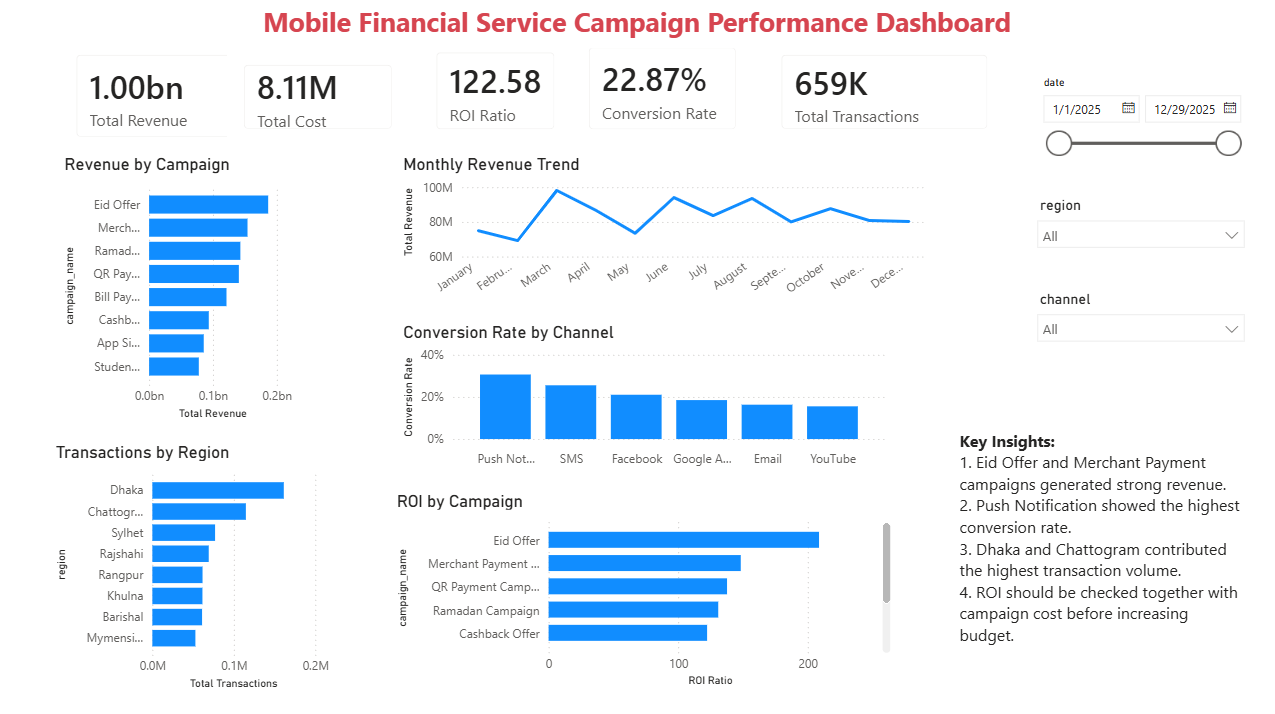

The page's visual inventory and layout, read from the dashboard file:
{"tool":"powerbi","page":{"name":"Page 1","canvas":[1280,720],"ordinal":0},"visuals":[{"type":"cardVisual","fields":{"Data":["mfs_campaign_data.Total Revenue"]},"box":[62.5,40,197.5,116.2],"z":0},{"type":"cardVisual","fields":{"Data":["mfs_campaign_data.Total Cost"]},"box":[230,50,182.5,98.8],"z":1},{"type":"cardVisual","fields":{"Data":["mfs_campaign_data.ROI"]},"box":[422.5,37.5,152.5,111.2],"z":2},{"type":"cardVisual","fields":{"Data":["mfs_campaign_data.Conversion Rate"]},"box":[575,32.5,181.2,116.2],"z":3},{"type":"cardVisual","fields":{"Data":["mfs_campaign_data.Total Transactions"]},"box":[767.5,40,240,108.8],"z":4},{"type":"clusteredBarChart","title":"Revenue by Campaign","fields":{"Category":["mfs_campaign_data.campaign_name"],"Y":["mfs_campaign_data.Total Revenue"]},"box":[62.5,156.2,237.5,270],"z":5},{"type":"lineChart","title":"Monthly Revenue Trend","fields":{"Category":["mfs_campaign_data.date.Variation.Date Hierarchy.Year","mfs_campaign_data.date.Variation.Date Hierarchy.Quarter","mfs_campaign_data.date.Variation.Date Hierarchy.Month","mfs_campaign_data.date.Variation.Date Hierarchy.Day"],"Y":["mfs_campaign_data.Total Revenue"]},"box":[401.2,156.2,531.2,152.5],"z":6},{"type":"clusteredColumnChart","title":"Conversion Rate by Channel","fields":{"Category":["mfs_campaign_data.channel"],"Y":["mfs_campaign_data.Conversion Rate"]},"box":[401.2,323.8,492.5,152.5],"z":7},{"type":"clusteredBarChart","title":"Transactions by Region","fields":{"Category":["mfs_campaign_data.region"],"Y":["mfs_campaign_data.Total Transactions"]},"box":[53.8,443.8,283.8,252.5],"z":8},{"type":"slicer","fields":{"Values":["mfs_campaign_data.region"]},"box":[1030,193.8,227.5,77.5],"z":9},{"type":"slicer","fields":{"Values":["mfs_campaign_data.date"]},"box":[1033.8,72.5,220,112.5],"z":10},{"type":"slicer","fields":{"Values":["mfs_campaign_data.channel"]},"box":[1030,287.5,227.5,72.5],"z":11},{"type":"clusteredBarChart","title":"ROI by Campaign","fields":{"Category":["mfs_campaign_data.campaign_name"],"Y":["mfs_campaign_data.ROI"]},"box":[395,492.5,503.8,201.2],"z":12},{"type":"textbox","box":[0,0,1280,50],"z":13},{"type":"textbox","box":[957.5,426.2,296.2,233.8],"z":14}]}

Visuals, with their boxes in screenshot pixels (x1, y1, x2, y2), scaled from the page's 1280x720 canvas onto the 1275x714 screenshot:
cardVisual - mfs_campaign_data.Total Revenue: left=62, top=40, right=259, bottom=155
cardVisual - mfs_campaign_data.Total Cost: left=229, top=50, right=411, bottom=148
cardVisual - mfs_campaign_data.ROI: left=421, top=37, right=573, bottom=147
cardVisual - mfs_campaign_data.Conversion Rate: left=573, top=32, right=753, bottom=147
cardVisual - mfs_campaign_data.Total Transactions: left=765, top=40, right=1004, bottom=148
"Revenue by Campaign" clusteredBarChart: left=62, top=155, right=299, bottom=423
"Monthly Revenue Trend" lineChart: left=400, top=155, right=929, bottom=306
"Conversion Rate by Channel" clusteredColumnChart: left=400, top=321, right=890, bottom=472
"Transactions by Region" clusteredBarChart: left=54, top=440, right=336, bottom=690
slicer - mfs_campaign_data.region: left=1026, top=192, right=1253, bottom=269
slicer - mfs_campaign_data.date: left=1030, top=72, right=1249, bottom=183
slicer - mfs_campaign_data.channel: left=1026, top=285, right=1253, bottom=357
"ROI by Campaign" clusteredBarChart: left=393, top=488, right=895, bottom=688
textbox: left=0, top=0, right=1274, bottom=50
textbox: left=954, top=423, right=1249, bottom=654
